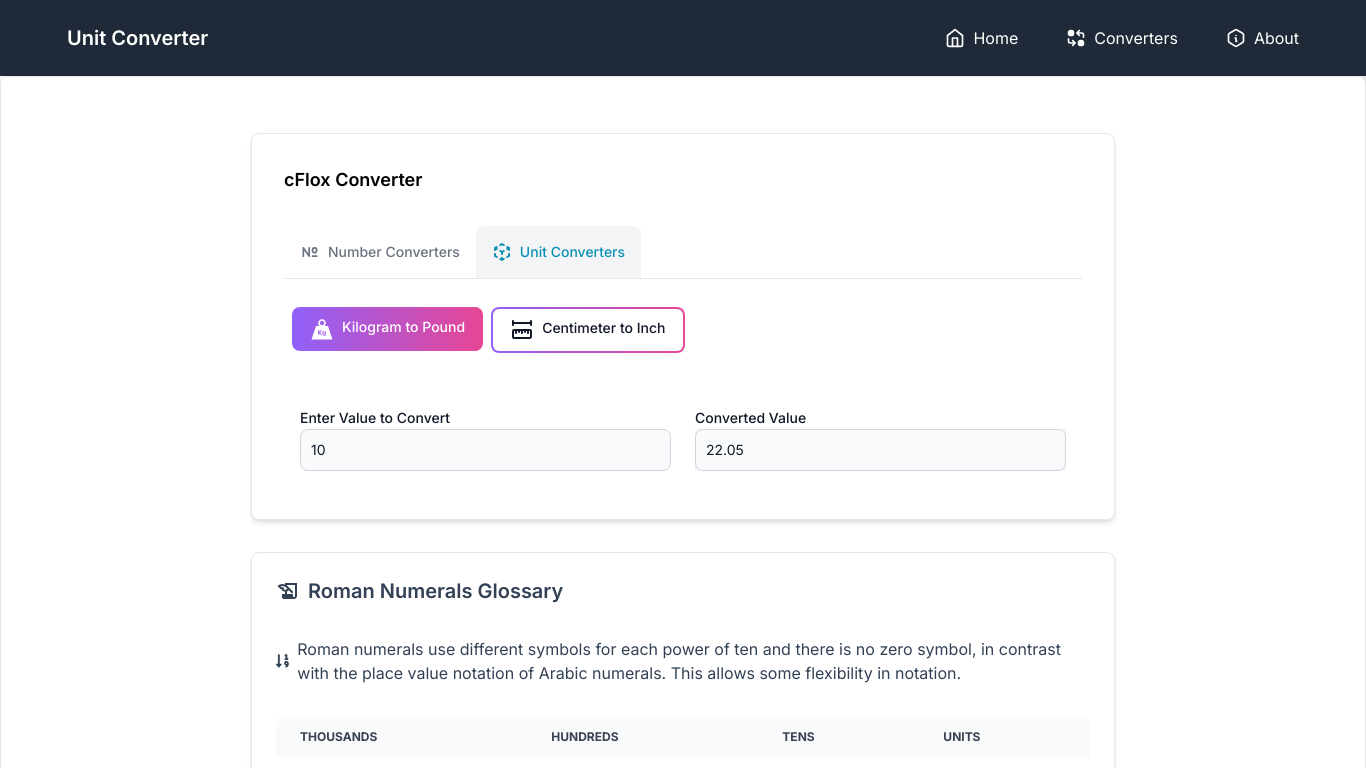
Test: Converter Page E2E Tests › Unit Converters Tests › converts centimeter to inch correctly and shows an error for invalid input
Click the button "Centimeter to Inch" at (588, 330), box x1=491 y1=307 x2=684 y2=353
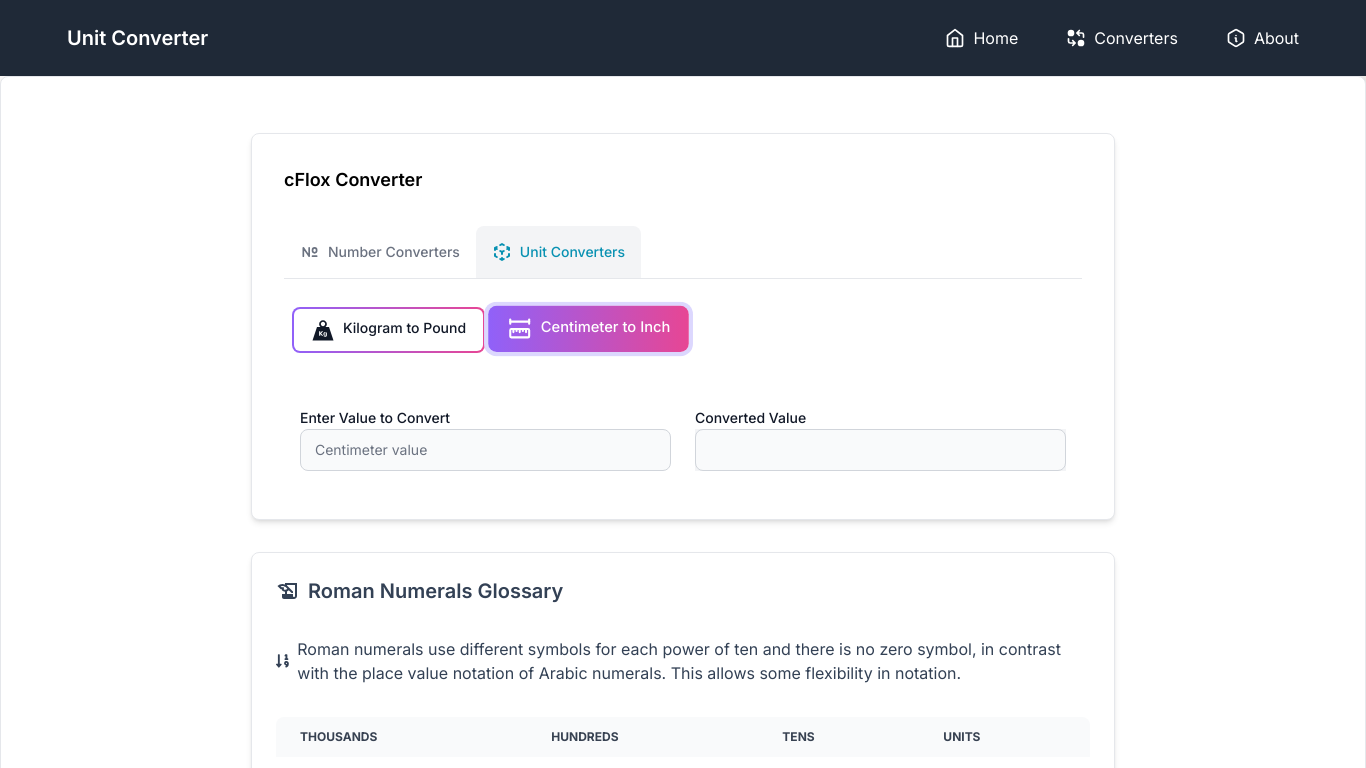
Type "100" into the field with test id "test-input-value" at (486, 450), box x1=300 y1=429 x2=671 y2=471
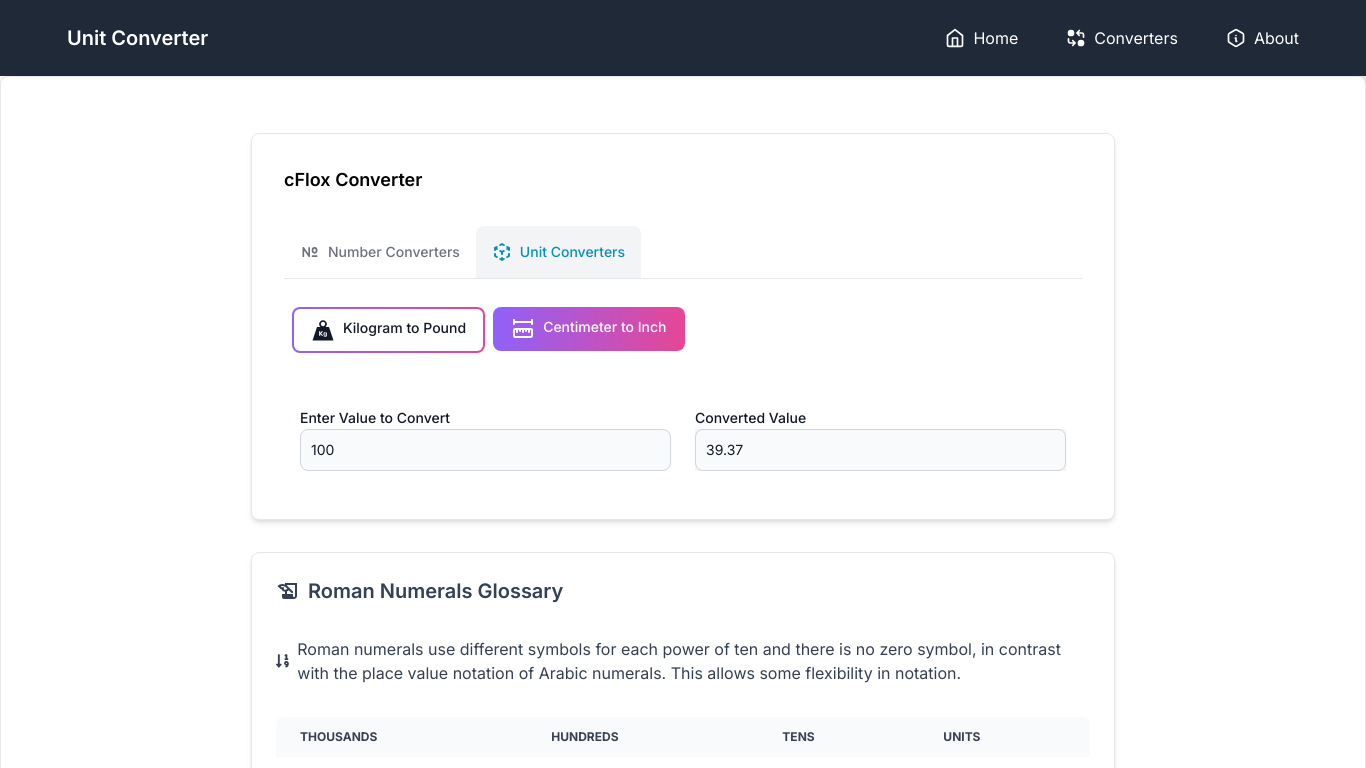
expect the field with test id "test-output-value" holds "39.37": met, box x1=695 y1=429 x2=1066 y2=471
Replace the text in the field with test id "test-input-value" with "-10" at (486, 450), box x1=300 y1=429 x2=671 y2=471
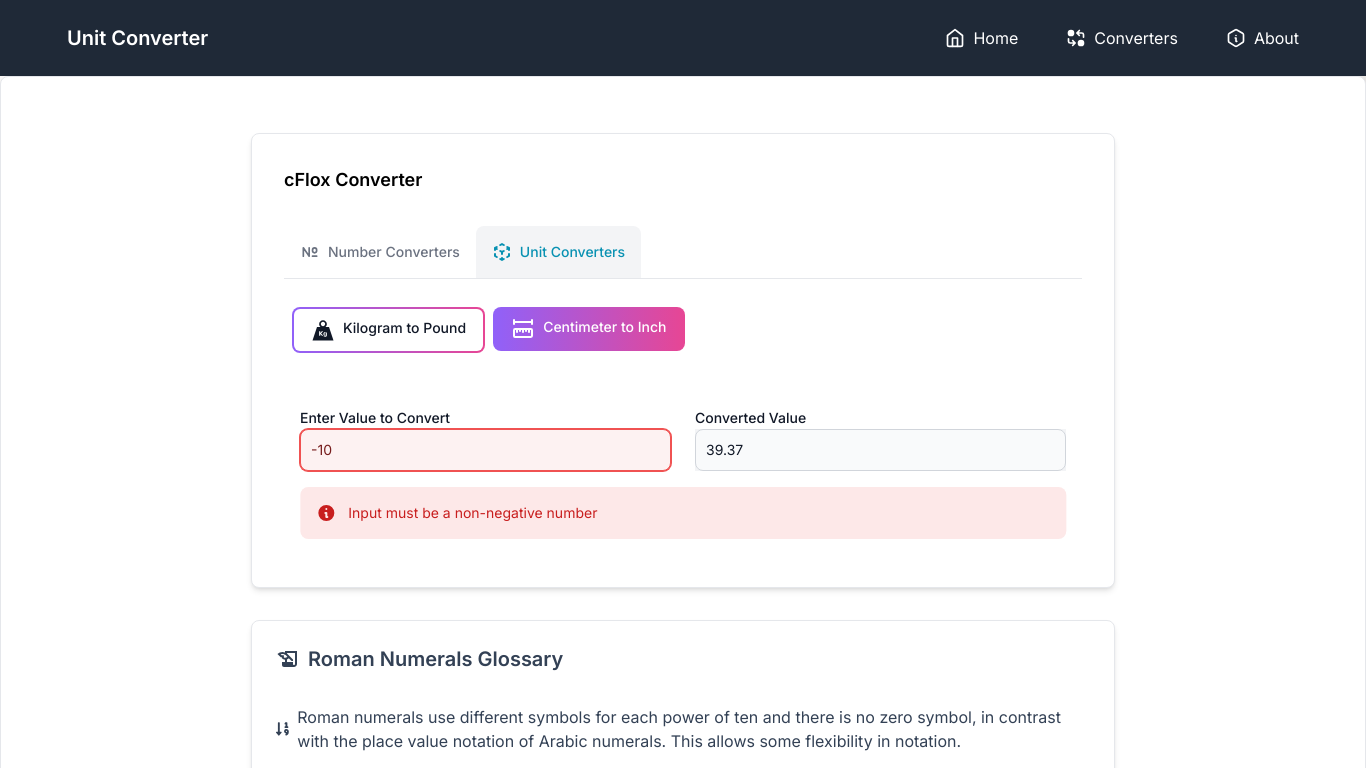
expect the text "Input must be a non-negative number" is shown: met, box x1=348 y1=503 x2=597 y2=523
